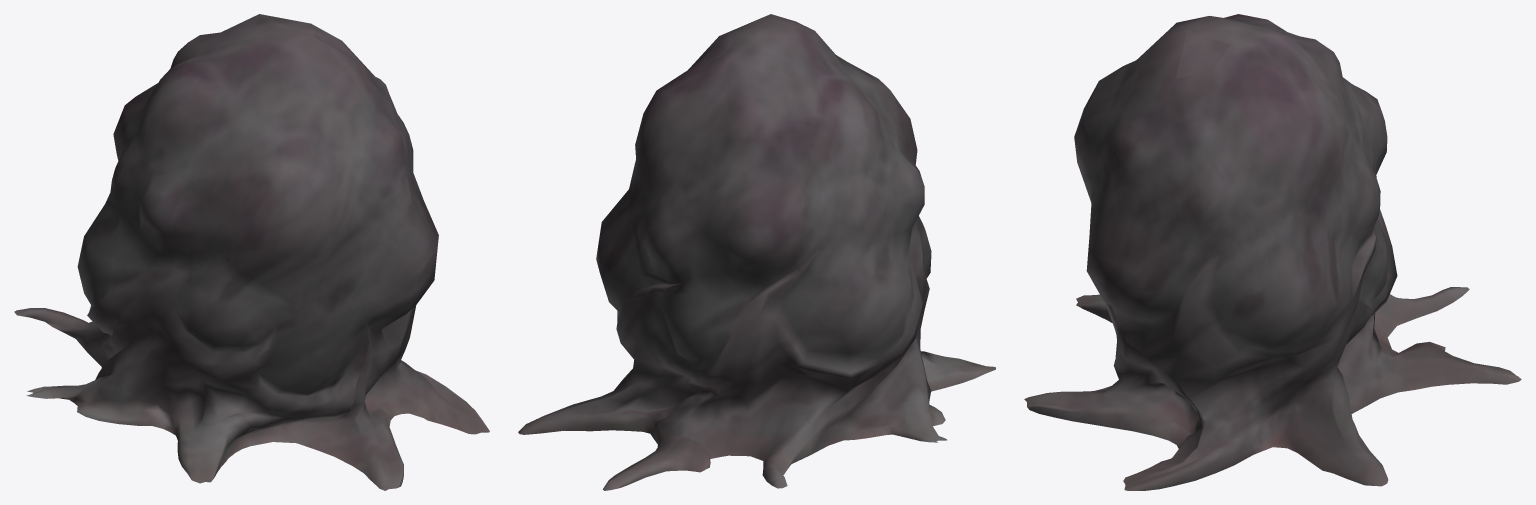
The model's file is Cocoon (34).fbx.
The picture shows the model from 3 angles, left to right: view 1: azimuth 30°, elevation 25°; view 2: azimuth 150°, elevation 25°; view 3: azimuth 270°, elevation 25°; orthographic projection. The views are drawn at different scales.
Parts seen in each view (by area): view 1: Egg; view 2: Egg; view 3: Egg.
Part boxes in pixels (x1,y1,x2,y2): Egg: [14, 14, 489, 490]; Egg: [518, 14, 995, 490]; Egg: [1024, 14, 1521, 490].
Bounding box in the file's own units: 1.54 × 1.51 × 1.74.
Materials: 1 (1 with a texture image).
